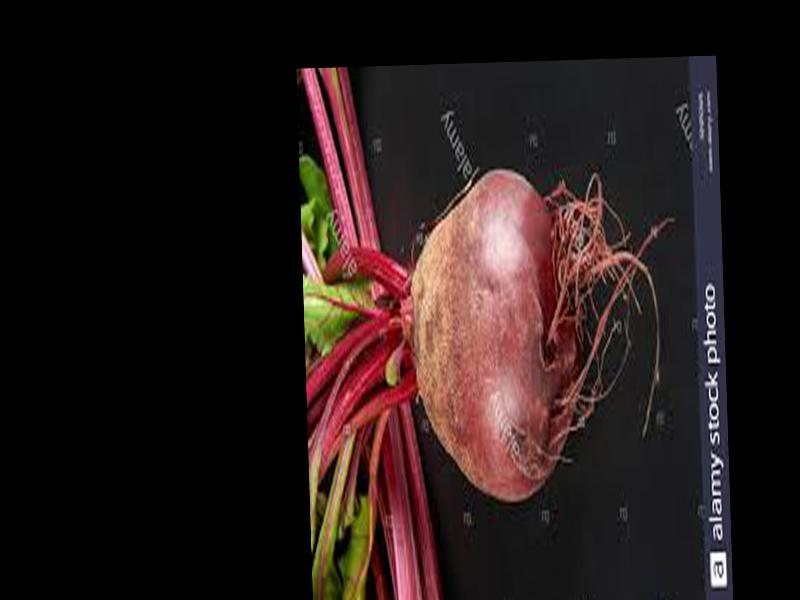Beet: (301, 161, 685, 600)
